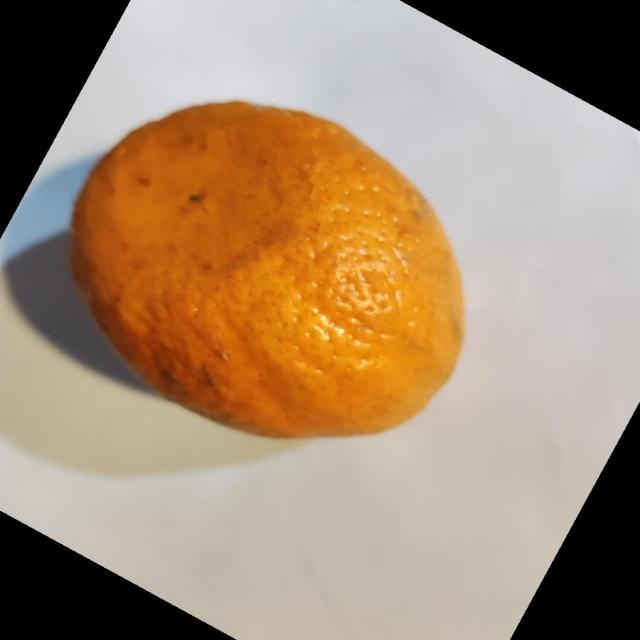agrume: (69, 98, 466, 440)
